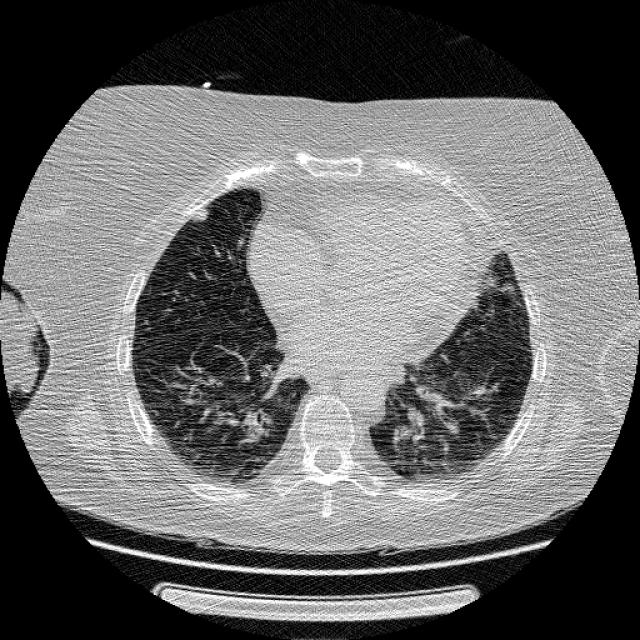nodule: (184, 198, 216, 230)
